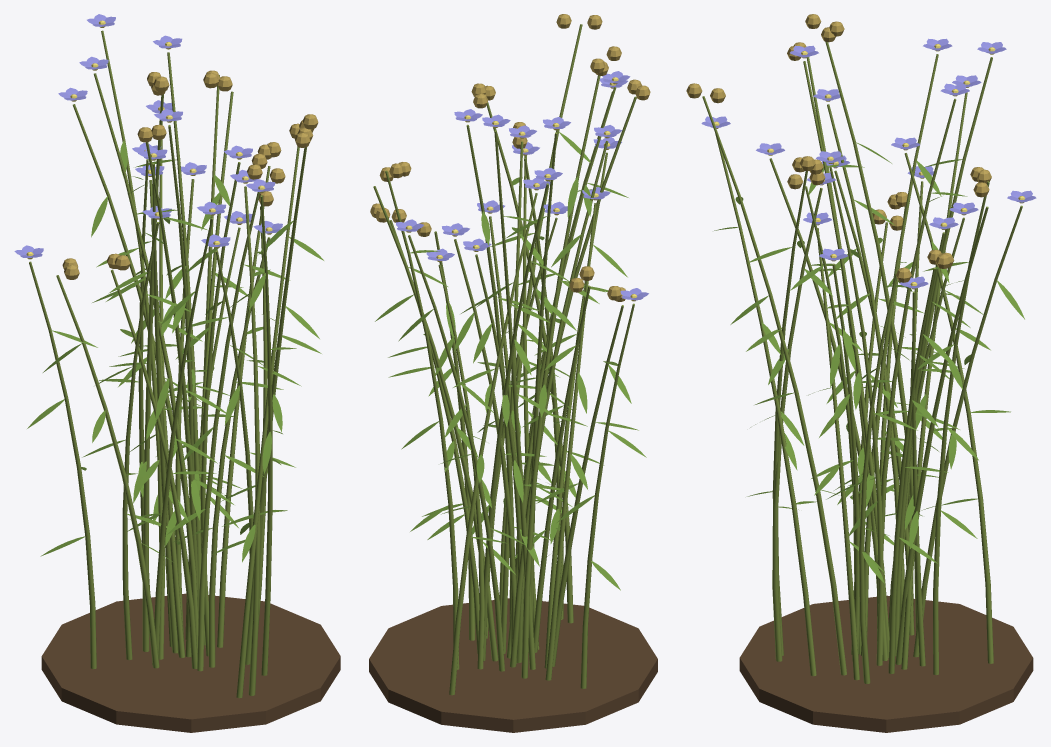
Rendered from flachs.glb.
3 renders of one model, left to right at view 1: azimuth 30°, elevation 25°; view 2: azimuth 150°, elevation 25°; view 3: azimuth 270°, elevation 25°, orthographic. The views are drawn at different scales.
Visible parts, largest first — view 1: flachs; view 2: flachs; view 3: flachs.
Part boxes in pixels (left/top/right/bottom): flachs: left=14, top=14, right=340, bottom=732; flachs: left=369, top=14, right=657, bottom=732; flachs: left=686, top=14, right=1036, bottom=732.
Size of the model in its own units: 0.4382 by 0.9393 by 0.4775.
